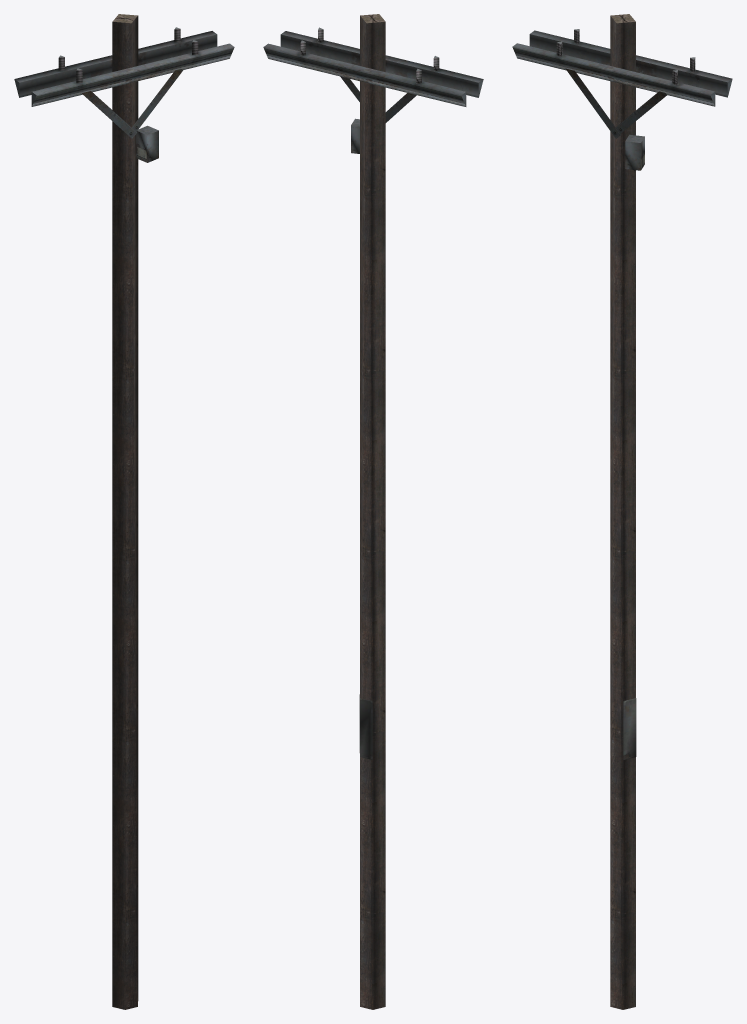
The model's file is Building_Dianxiangan01.glb.
3 views of the same model, side by side, from view 1: azimuth 30°, elevation 25°; view 2: azimuth 150°, elevation 25°; view 3: azimuth 330°, elevation 25° (orthographic).
Parts seen in each view (by area): view 1: common_dianxiangan_01; view 2: common_dianxiangan_01; view 3: common_dianxiangan_01.
Part boxes in pixels (x1=…): common_dianxiangan_01: x1=14, y1=14, x2=234, y2=1009; common_dianxiangan_01: x1=263, y1=14, x2=483, y2=1009; common_dianxiangan_01: x1=512, y1=14, x2=732, y2=1009.
Size of the model in its own units: 1.92 by 9.11 by 0.3754.
Materials: 1 (1 with a texture image).
